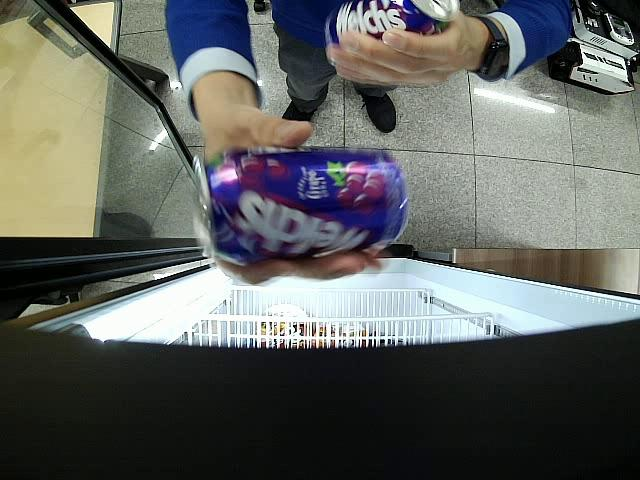00_hand: (194, 105, 383, 285), (328, 19, 474, 87)
14_welchsGrape: (195, 150, 405, 260), (327, 2, 458, 44)
